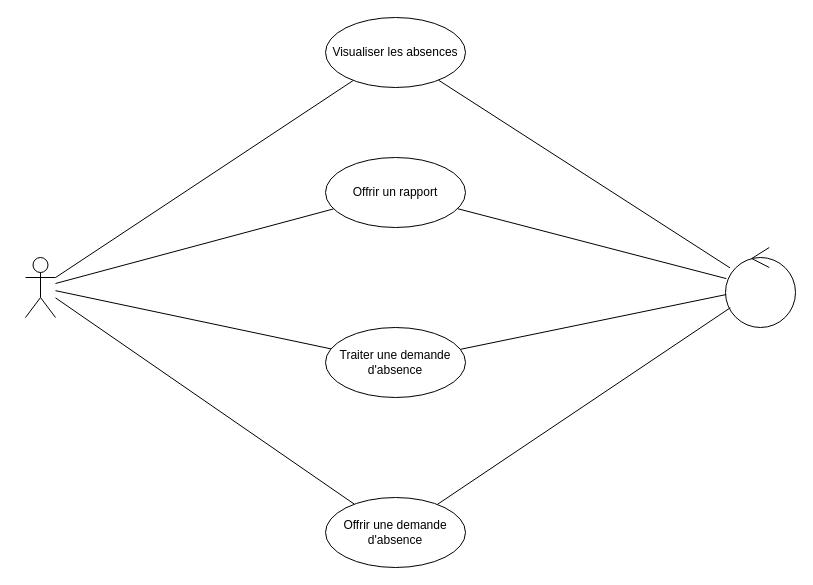
Image size: 813x585. Some labels were removed from this diagram. Each missing label, with the box of its shape:
Employé: (24, 256, 56, 318)
RH: (724, 246, 796, 328)
